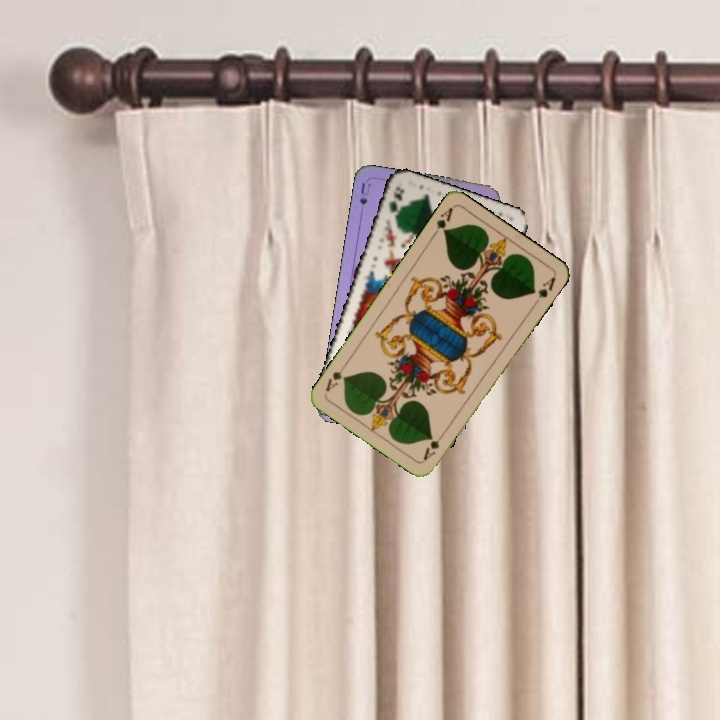GA: (419, 427, 448, 463), (428, 203, 456, 240)
GK: (384, 182, 407, 224)
SU: (356, 179, 373, 220)
